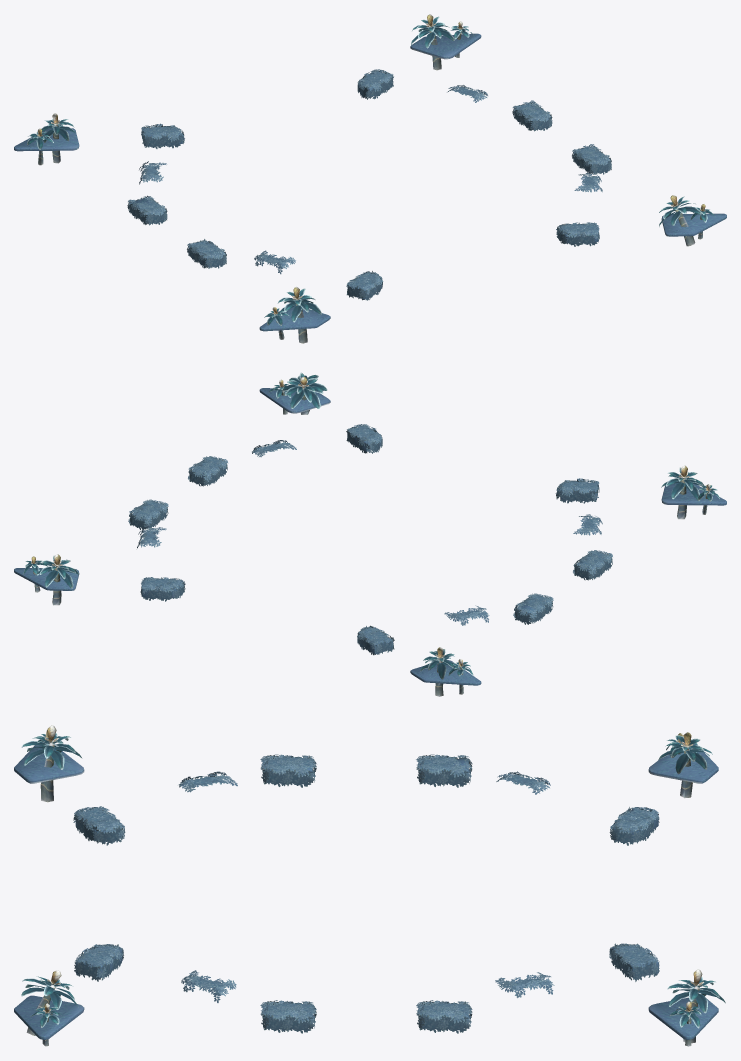
File: pref_sm_beach_bk_winter_pointmol_longplant_C_lv2.fbx
The picture shows the model from 3 angles, top to bottom: view 1: azimuth 30°, elevation 25°; view 2: azimuth 150°, elevation 25°; view 3: azimuth 270°, elevation 25°; orthographic projection. The views are drawn at different scales.
Parts seen in each view (by area): view 1: sm_beach_bk_winter_pointmol_longplant_C01_lv2, sm_beach_bk_winter_pointmol_longplant_C02_lv2; view 2: sm_beach_bk_winter_pointmol_longplant_C02_lv2, sm_beach_bk_winter_pointmol_longplant_C01_lv2; view 3: sm_beach_bk_winter_pointmol_longplant_C01_lv2, sm_beach_bk_winter_pointmol_longplant_C02_lv2.
Boxes of the visible parts, box(x1,y1,x2,y2) form: sm_beach_bk_winter_pointmol_longplant_C01_lv2: box(357, 14, 726, 246); sm_beach_bk_winter_pointmol_longplant_C02_lv2: box(14, 113, 383, 343); sm_beach_bk_winter_pointmol_longplant_C02_lv2: box(357, 465, 726, 696); sm_beach_bk_winter_pointmol_longplant_C01_lv2: box(14, 372, 382, 605); sm_beach_bk_winter_pointmol_longplant_C01_lv2: box(14, 943, 725, 1046); sm_beach_bk_winter_pointmol_longplant_C02_lv2: box(14, 725, 718, 845).
Size of the model in its own units: 50.83 by 5.72 by 51.42.
